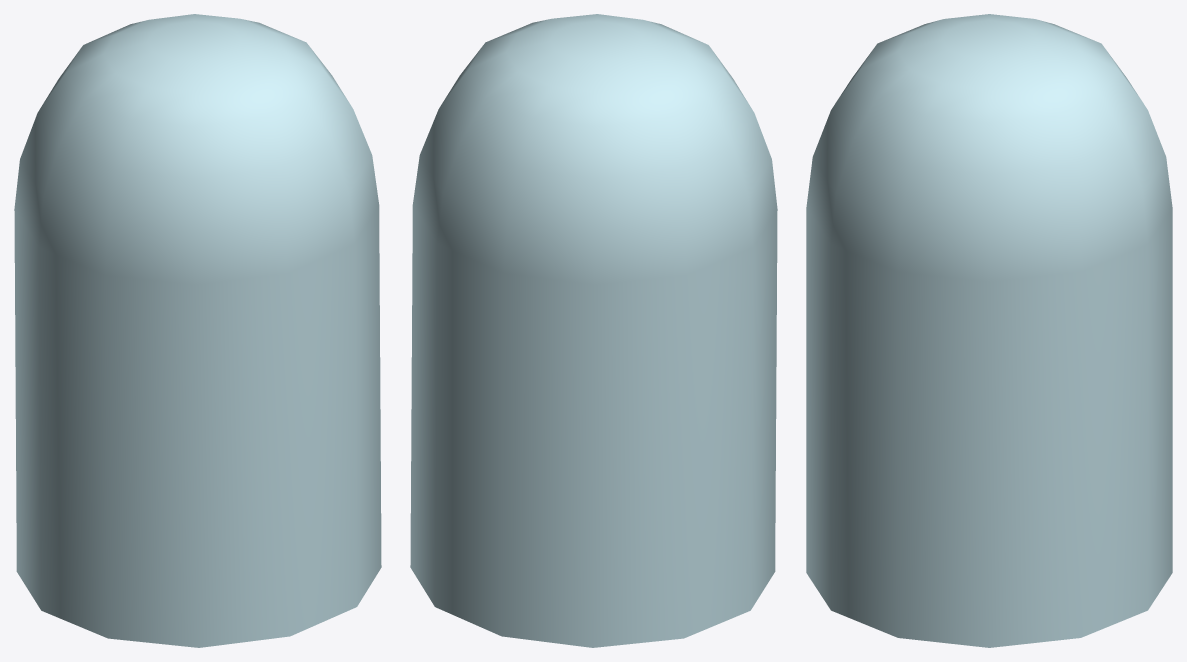
The model's file is Light.fbx.
3 renders of one model, left to right at view 1: azimuth 30°, elevation 25°; view 2: azimuth 150°, elevation 25°; view 3: azimuth 270°, elevation 25°, orthographic.
Visible parts, largest first — view 1: LightGlass; view 2: LightGlass; view 3: LightGlass.
Boxes of the visible parts, box(x1,y1,x2,y2) form: LightGlass: box(14, 14, 381, 647); LightGlass: box(410, 14, 777, 647); LightGlass: box(806, 14, 1172, 647).
Bounding box in the file's own units: 2.93 × 4.68 × 2.91.
Materials: 2 (1 with a texture image).
